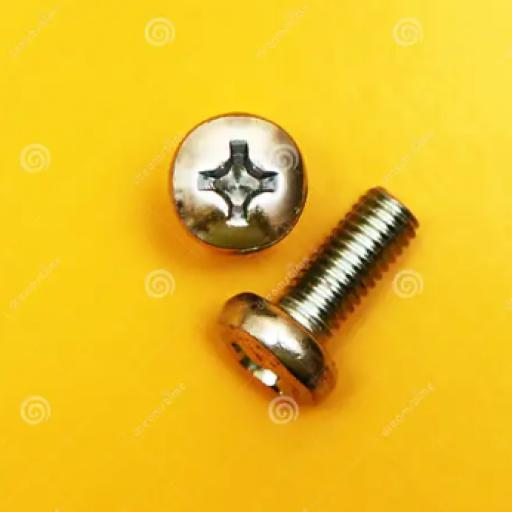Phillips: (166, 112, 310, 257)
